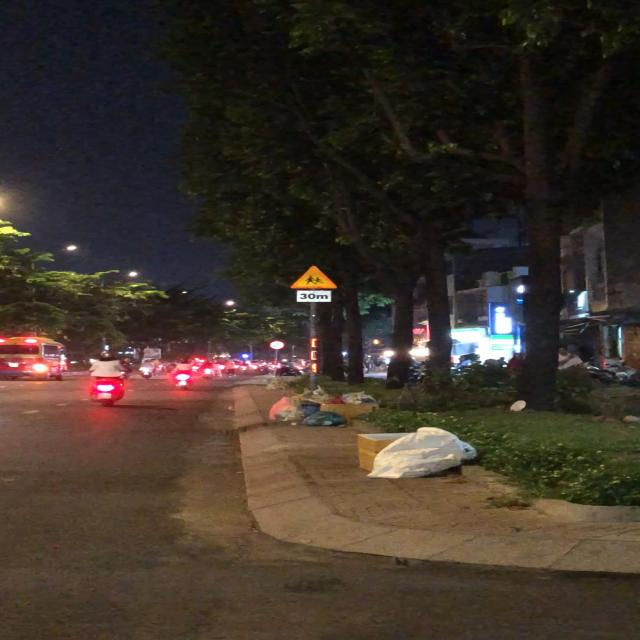Bien bao tre em: (286, 264, 342, 290)
